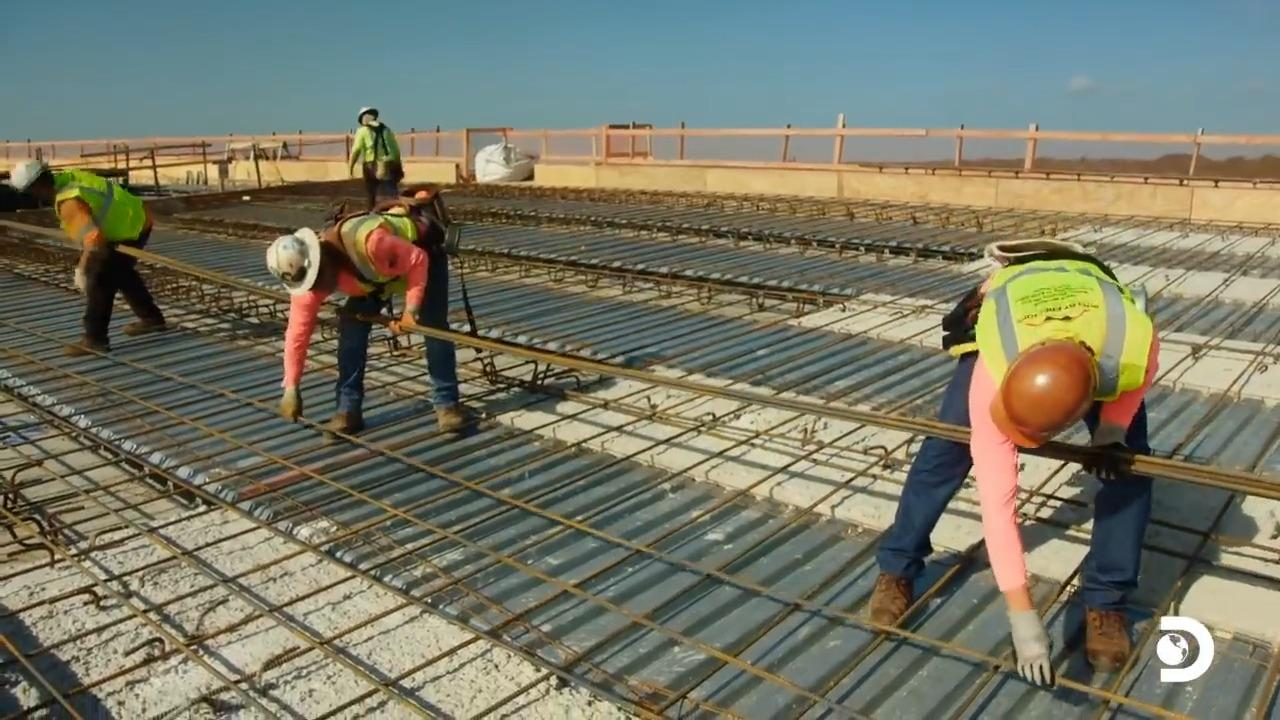Gloves: (1007, 614, 1059, 689), (1087, 419, 1134, 484), (390, 304, 422, 347), (283, 391, 304, 421), (71, 268, 94, 292)
Helmet: (989, 338, 1097, 449), (265, 226, 321, 295), (10, 159, 48, 192), (351, 105, 383, 125)
Person: (867, 238, 1160, 688), (264, 209, 465, 440), (9, 159, 166, 357), (347, 106, 404, 212)
Safety Boot: (856, 580, 926, 629), (1085, 604, 1139, 667), (59, 337, 112, 362), (434, 400, 467, 438), (121, 318, 167, 337)
Safety Vest: (978, 263, 1127, 387), (54, 181, 139, 242), (340, 226, 430, 283), (362, 128, 399, 171)
